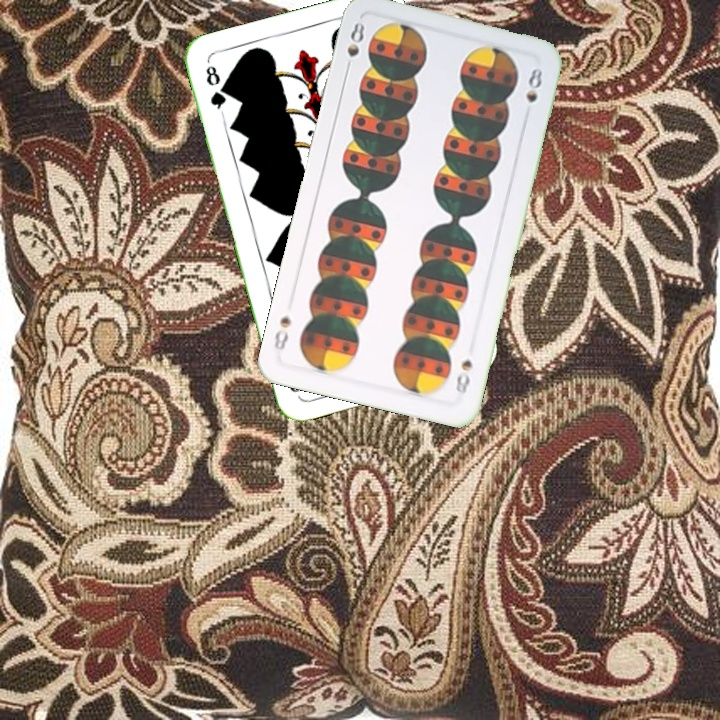G8: (201, 61, 229, 117)
S8: (341, 18, 368, 76), (451, 355, 475, 399)
